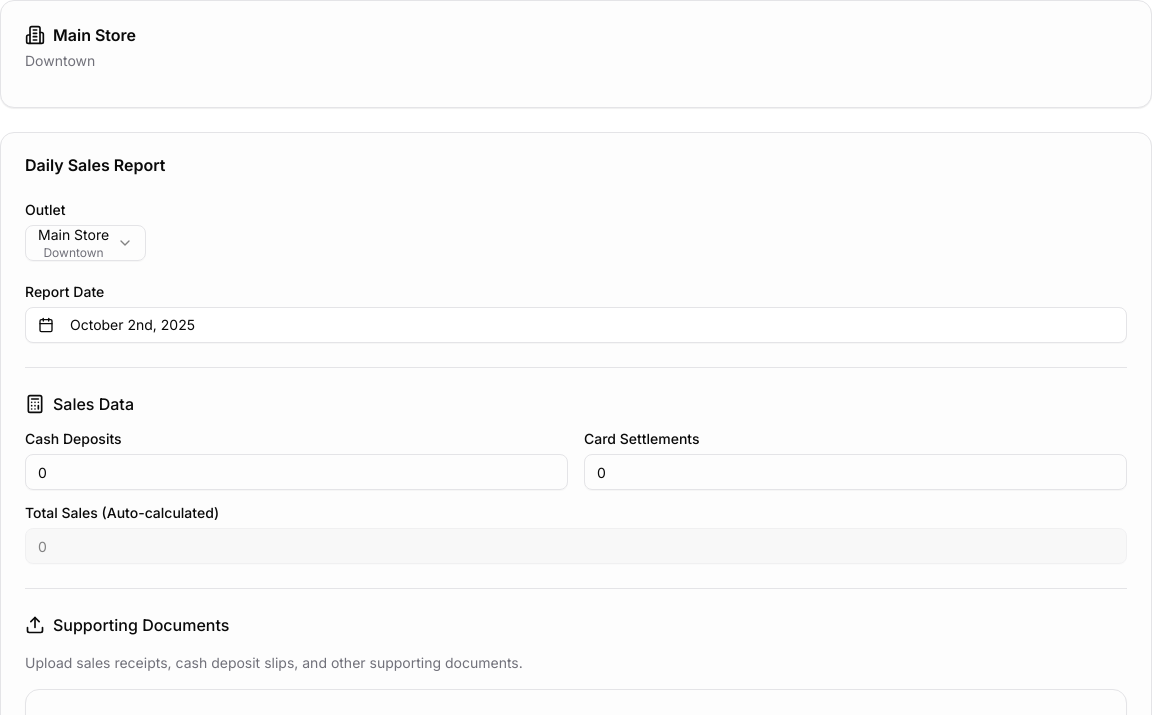
Test: SalesReportForm › Form Submission › displays server error messages
Type "100" into the number field labelled "Cash Deposits" at point(296, 472), box [25, 454, 568, 490]
(page scrolled)
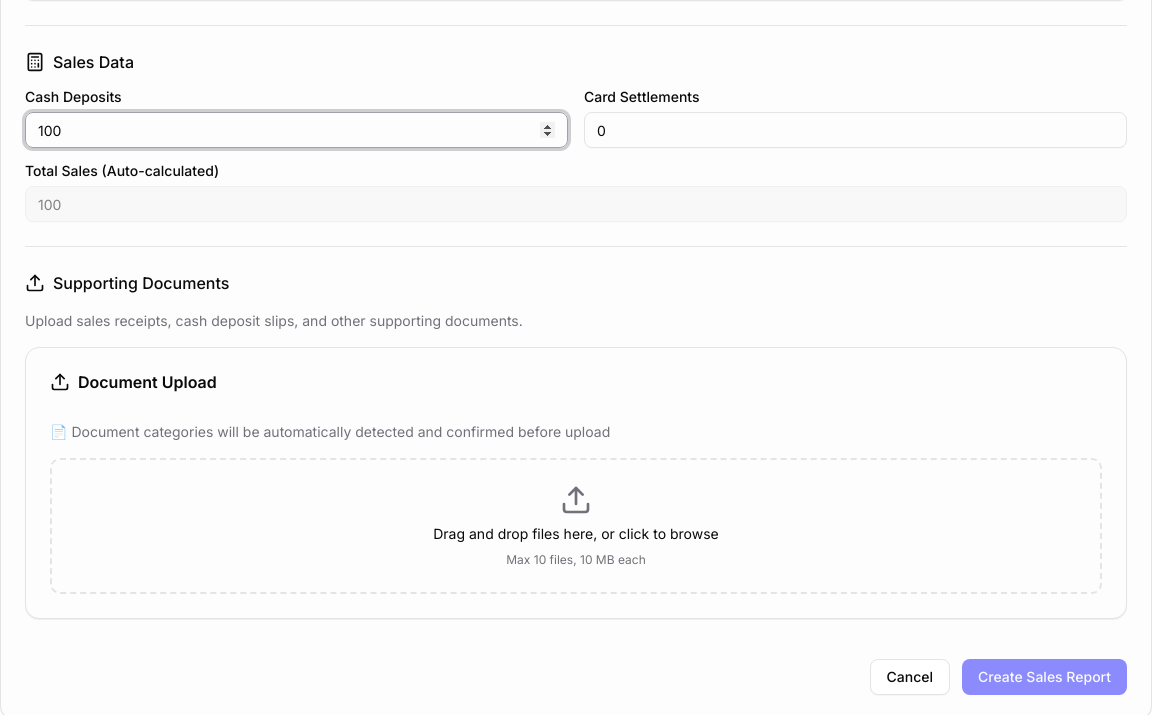
Click the button "Create Sales Report" at point(1044, 677), box [962, 659, 1127, 695]
(page scrolled)
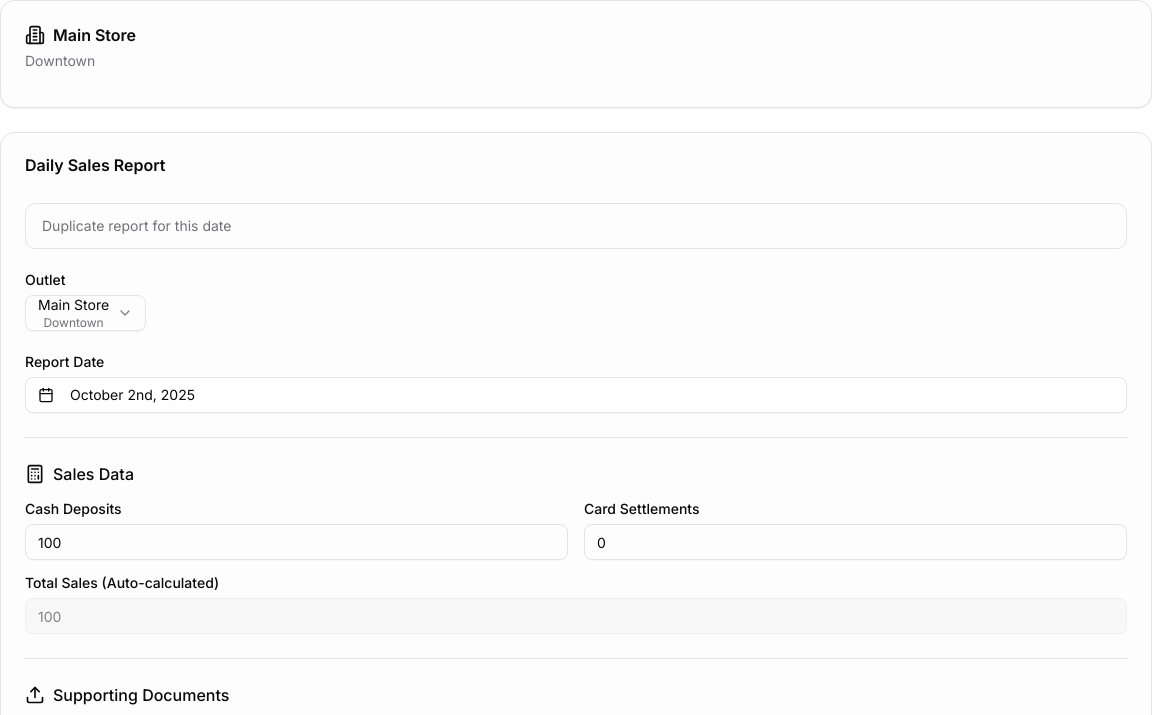
Now the text "Duplicate report for this date" is shown, box [42, 217, 231, 234]
